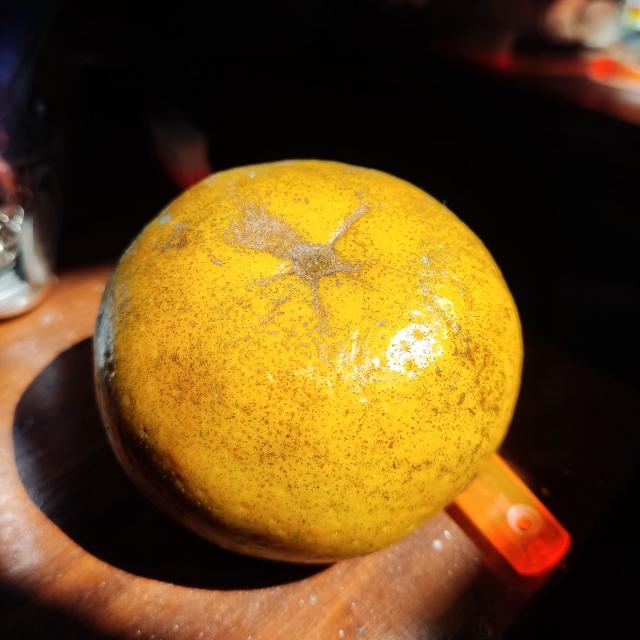orange: (92, 156, 524, 562)
